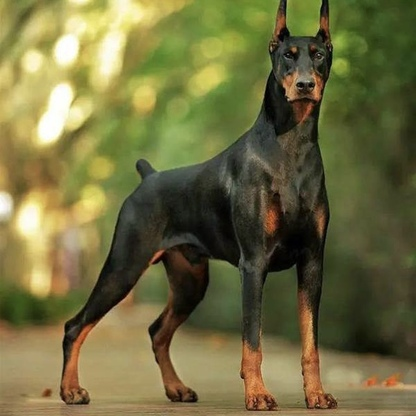doberman: (54, 6, 359, 416)
